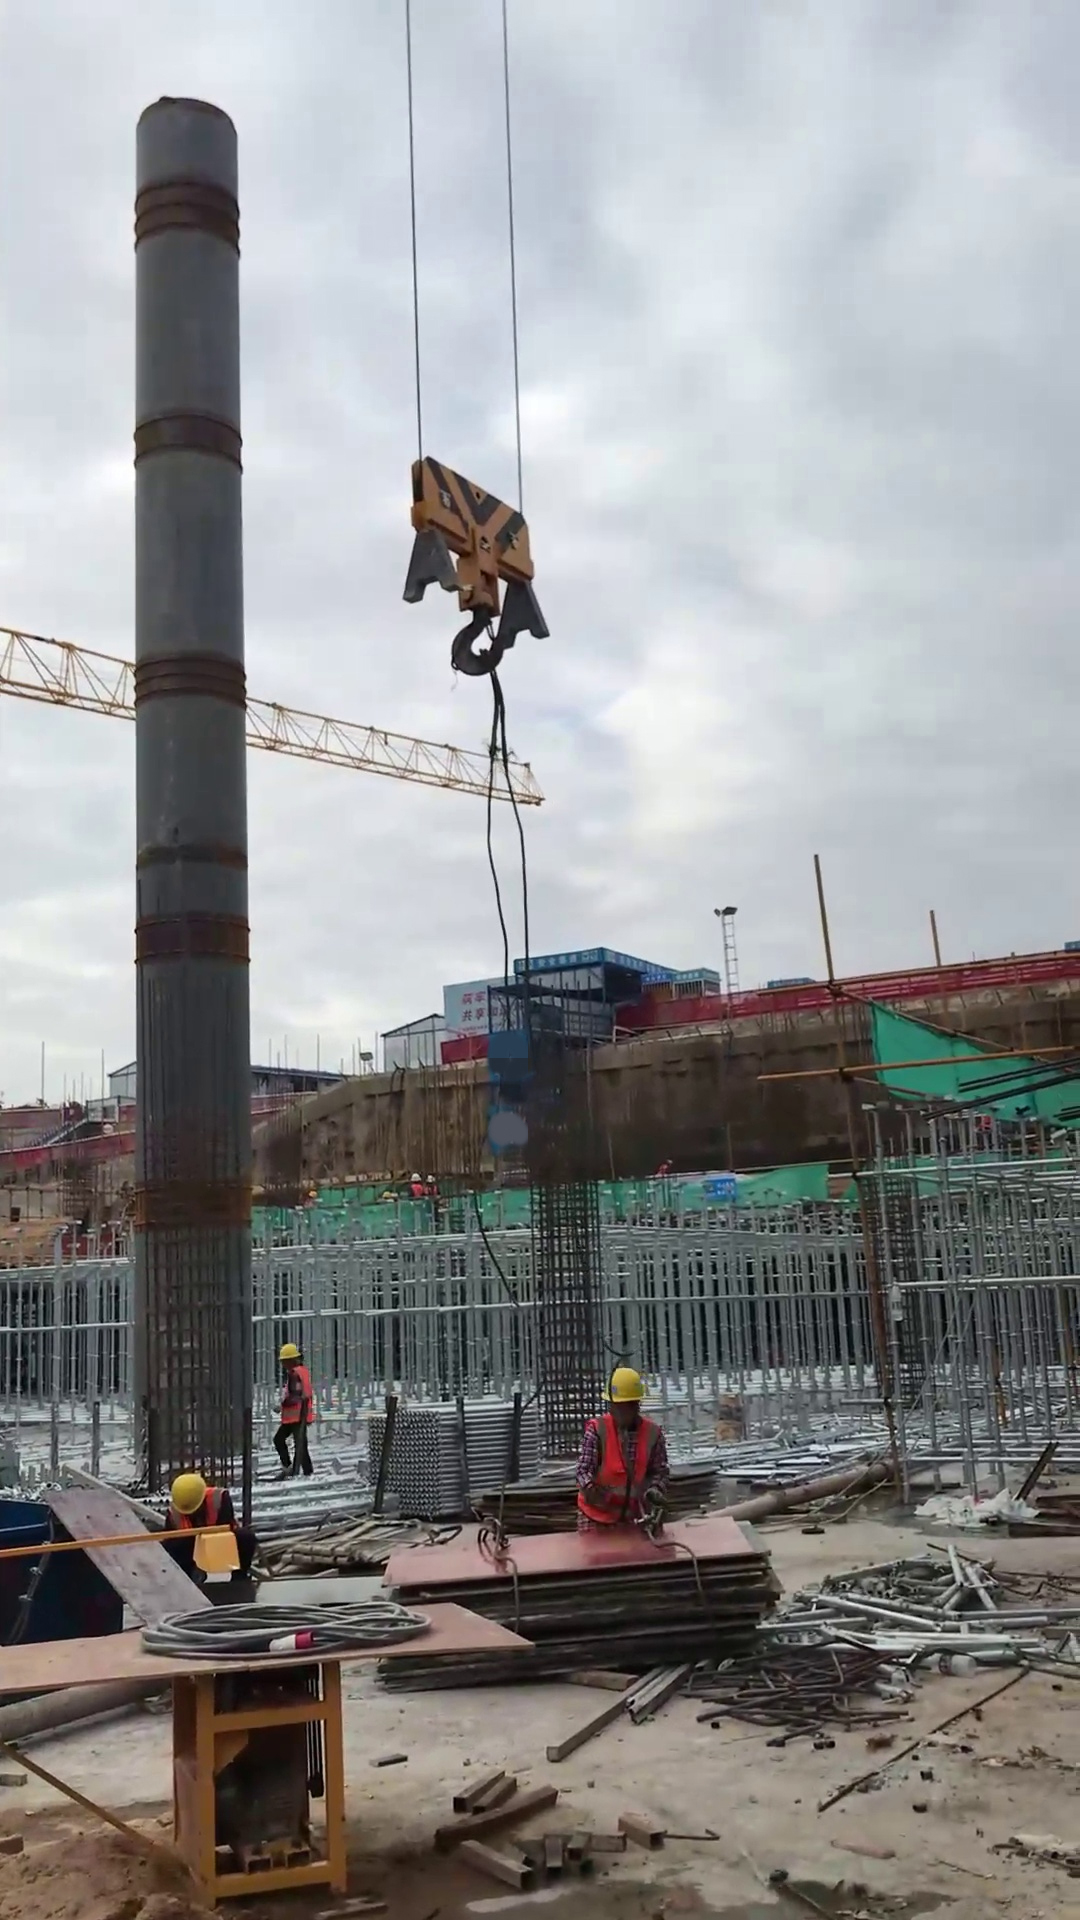board: (381, 1513, 799, 1683)
helmet: (170, 1464, 211, 1517), (601, 1363, 646, 1399), (281, 1336, 296, 1360)
hook: (391, 445, 553, 688)
person: (574, 1363, 676, 1532), (160, 1469, 246, 1550), (272, 1334, 318, 1480)
scaffold: (353, 1399, 541, 1519)
vest: (573, 1417, 666, 1517), (273, 1369, 323, 1430)
